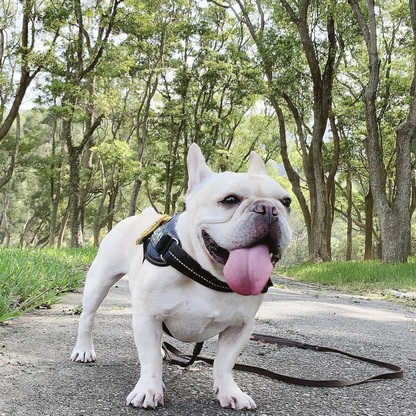bulldog: (68, 138, 293, 411)
